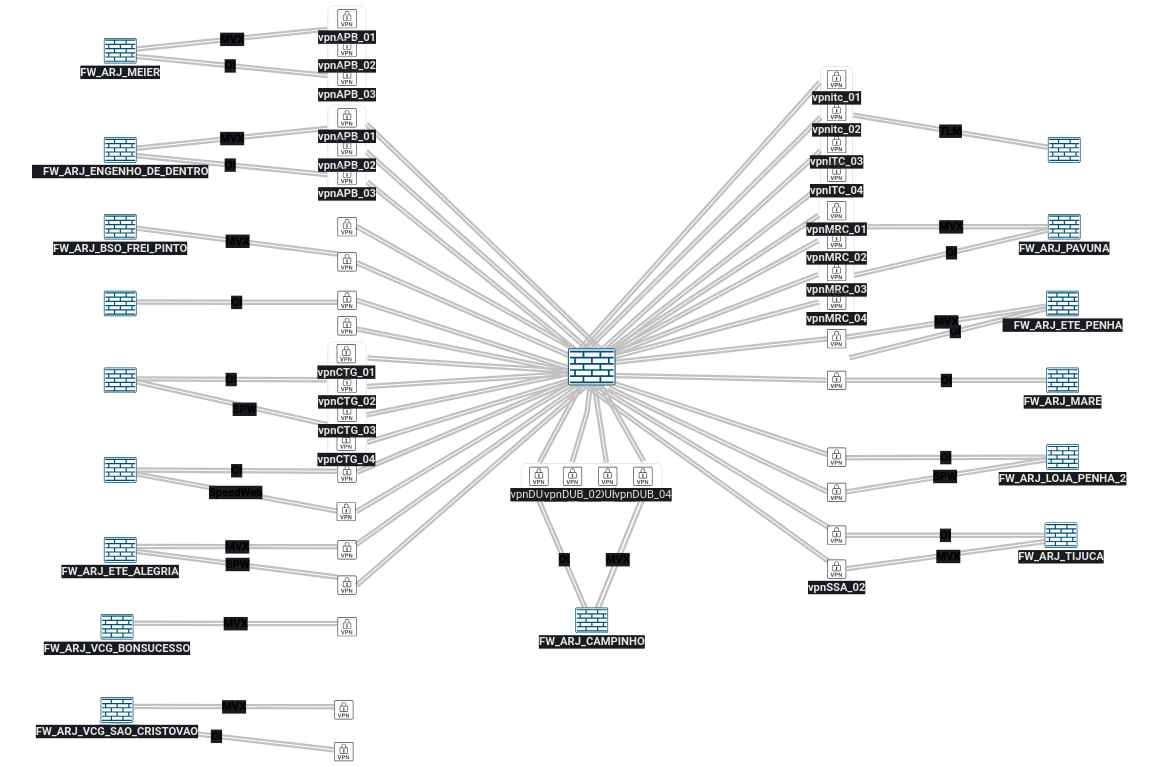
Image size: 1167x767. Some labels were removed from this diagram. The box of each missing label's shape, as (x1, y1, x2, y2) in pixels:
AGUAS DO RIO: (568, 348, 616, 386)
FW_ARJ_BSO_JURAMENTO: (104, 290, 137, 316)
FW_ARJ_BSO_LOJA_ILHA_DO_GOVERNADOR: (104, 367, 137, 393)
FW_ARJ_ELEVATORIO_PRAIA_DA_BICA: (104, 457, 137, 483)
FW_ARJ_ETE_ILHA_DO_GOVERNADOR: (1048, 137, 1081, 163)
vpnCor_01: (337, 540, 356, 559)
vpnCor_02: (337, 575, 356, 595)
vpnRBT_02: (827, 371, 846, 390)
vpnSFI_01: (827, 447, 846, 467)
vpnSFI_02: (827, 483, 846, 502)
vpnSSA_01: (827, 525, 846, 545)
